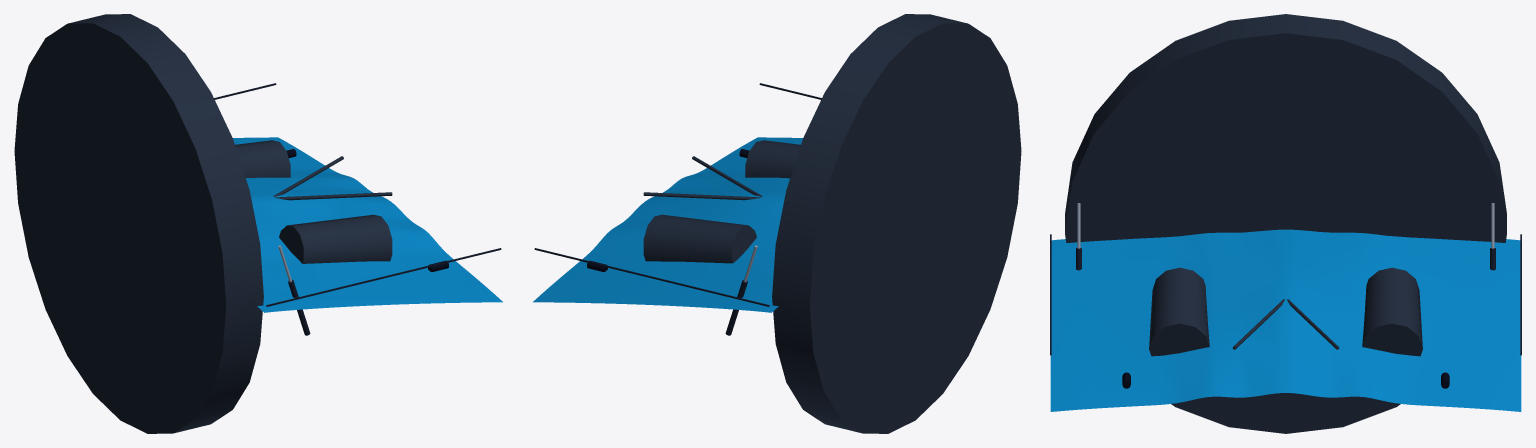
Rendered from hood.glb.
3 renders of one model, left to right at view 1: azimuth 30°, elevation 25°; view 2: azimuth 150°, elevation 25°; view 3: azimuth 270°, elevation 25°, orthographic. The views are drawn at different scales.
Parts seen in each view (by area): view 1: Block04_ProductionSculptedHood; view 2: Block04_ProductionSculptedHood; view 3: Block04_ProductionSculptedHood.
Part boxes in pixels (x1=…): Block04_ProductionSculptedHood: x1=14, y1=14, x2=502, y2=433; Block04_ProductionSculptedHood: x1=533, y1=14, x2=1021, y2=433; Block04_ProductionSculptedHood: x1=1050, y1=14, x2=1521, y2=433.
Size of the model in its own units: 0.86 by 1.17 by 1.24.
